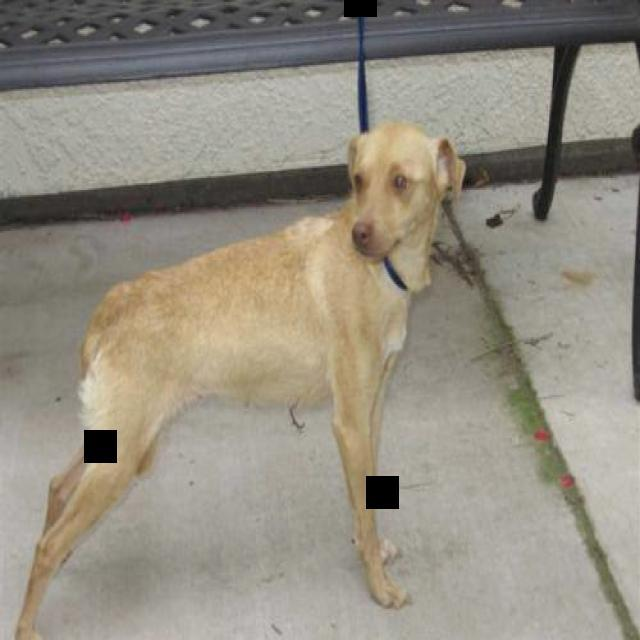adult_dog: (14, 117, 468, 632)
